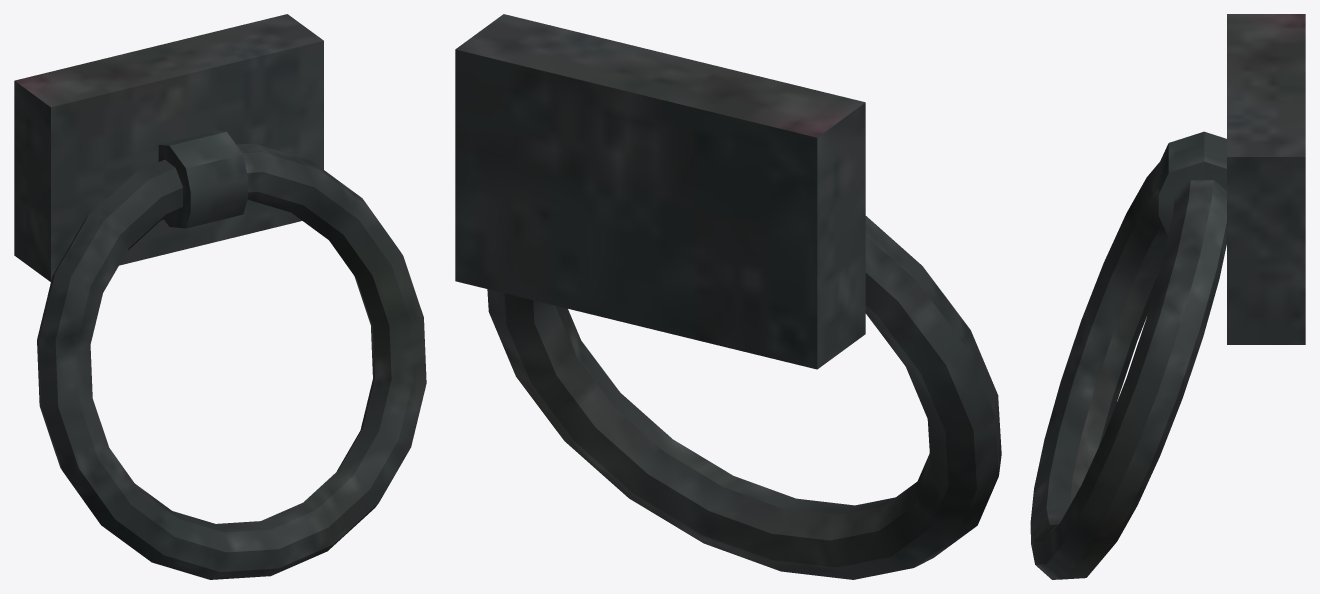
Rendered from df_chain.glb.
3 renders of one model, left to right at view 1: azimuth 30°, elevation 25°; view 2: azimuth 150°, elevation 25°; view 3: azimuth 270°, elevation 25°, orthographic. The views are drawn at different scales.
Visible parts, largest first — view 1: KB3D_DKF_ChainHook_A_Main; view 2: KB3D_DKF_ChainHook_A_Main; view 3: KB3D_DKF_ChainHook_A_Main.
Part boxes in pixels (bbox=[...]): KB3D_DKF_ChainHook_A_Main: bbox=[14, 14, 426, 579]; KB3D_DKF_ChainHook_A_Main: bbox=[455, 14, 1001, 579]; KB3D_DKF_ChainHook_A_Main: bbox=[1030, 14, 1305, 579].
Bounding box in the file's own units: 0.2736 × 0.3034 × 0.1597.
1 material, 1 textured.
